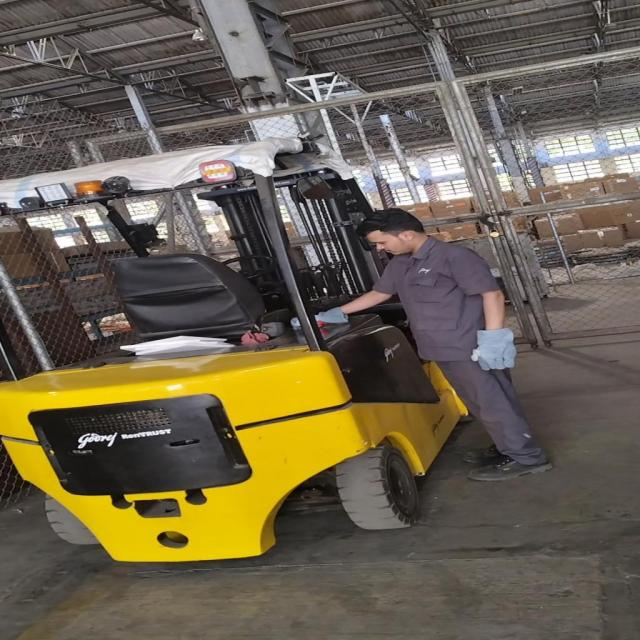Gloves-Detection: (466, 327, 517, 374), (312, 304, 351, 326)
